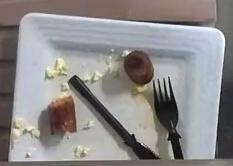sausage: (48, 96, 76, 135), (124, 51, 154, 85)
